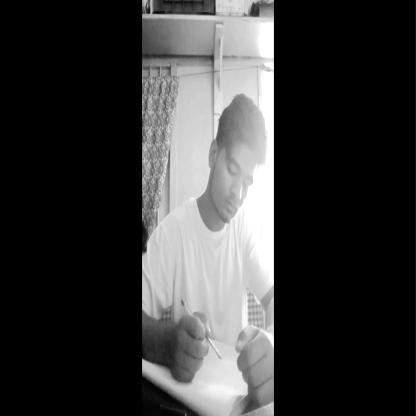Distracted: (201, 89, 265, 233)
